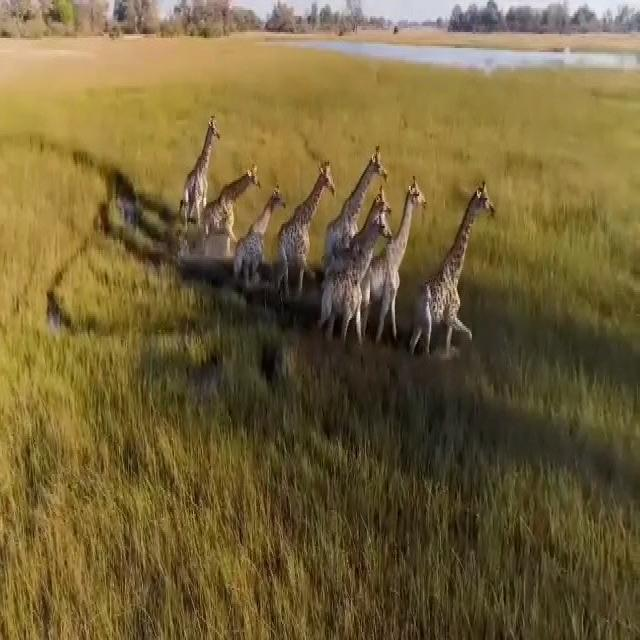Girraffe: (417, 176, 496, 374), (328, 132, 386, 344), (366, 170, 420, 349), (286, 152, 332, 313), (239, 184, 286, 306), (180, 116, 220, 240), (208, 166, 264, 234)
